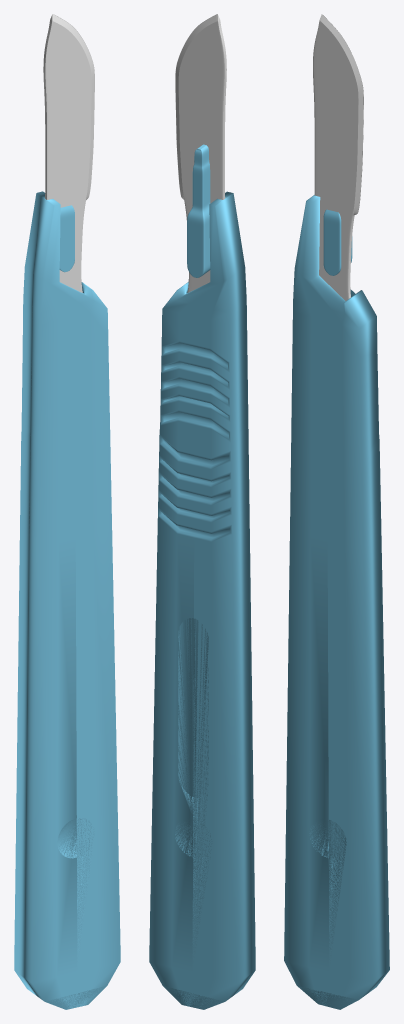
The model's file is knife2.fbx.
3 renders of one model, left to right at view 1: azimuth 30°, elevation 25°; view 2: azimuth 150°, elevation 25°; view 3: azimuth 330°, elevation 25°, orthographic.
Parts seen in each view (by area): view 1: handle, blade; view 2: handle, blade; view 3: handle, blade.
Part boxes in pixels (<box>): handle: <box>14,191,120,1009</box>; blade: <box>43,14,94,292</box>; handle: <box>149,144,255,1009</box>; blade: <box>175,14,226,292</box>; handle: <box>284,195,389,1009</box>; blade: <box>313,14,363,300</box>.
Bounding box in the file's own units: 43.31 × 461 × 15.98.
